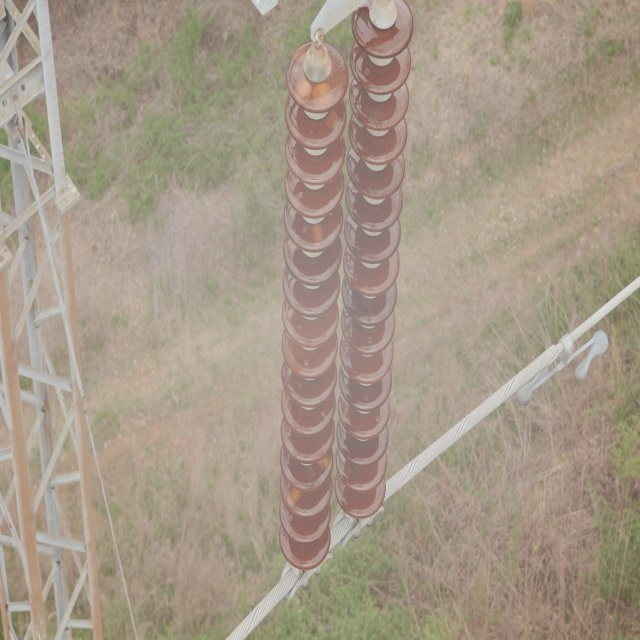insulator: (277, 2, 416, 570)
